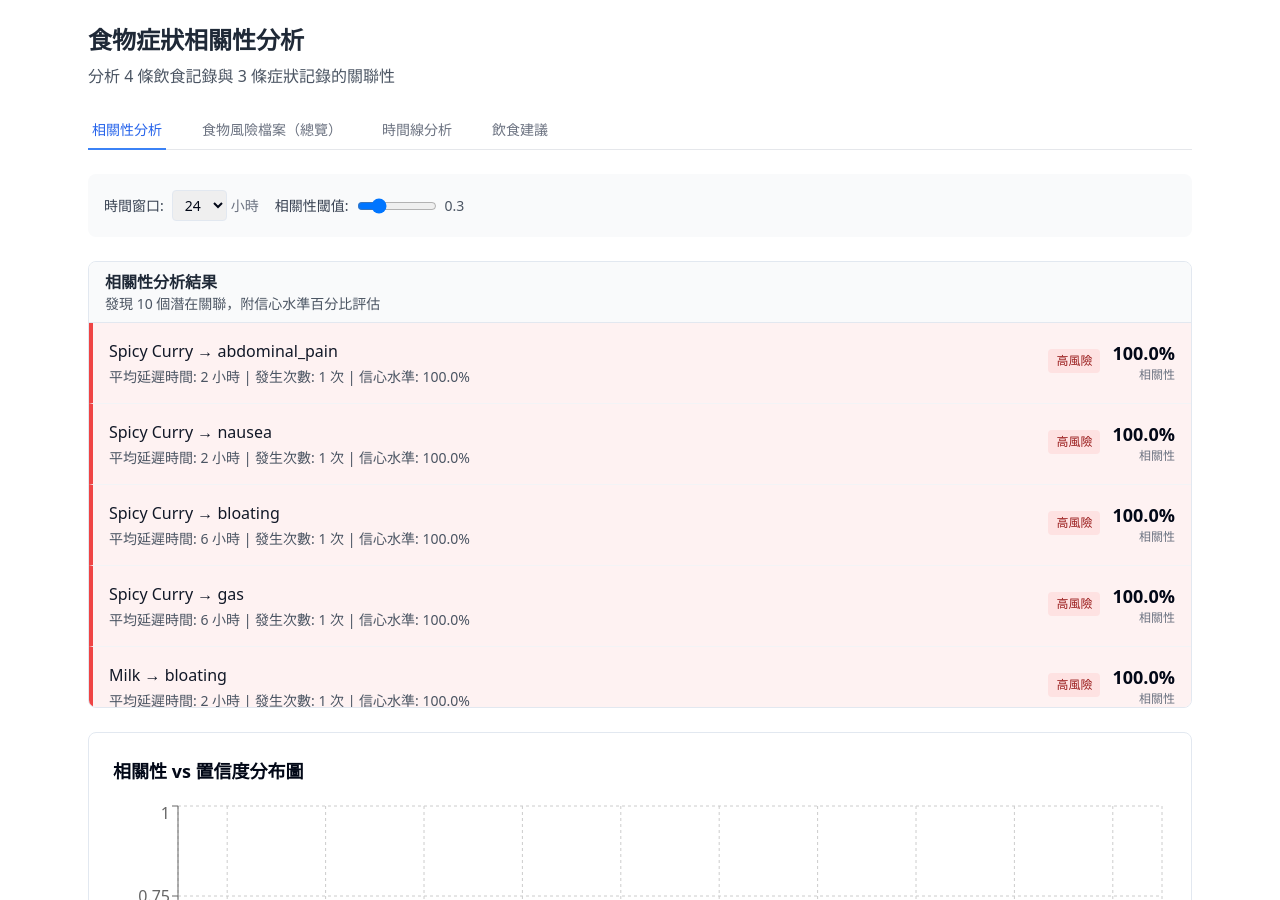
Test: SymptomFoodCorrelationAnalyzer › Tab Navigation › switches to recommendations tab
Click the tab "飲食建議": coordinates (520, 131) top-left (488, 112), bottom-right (552, 150)
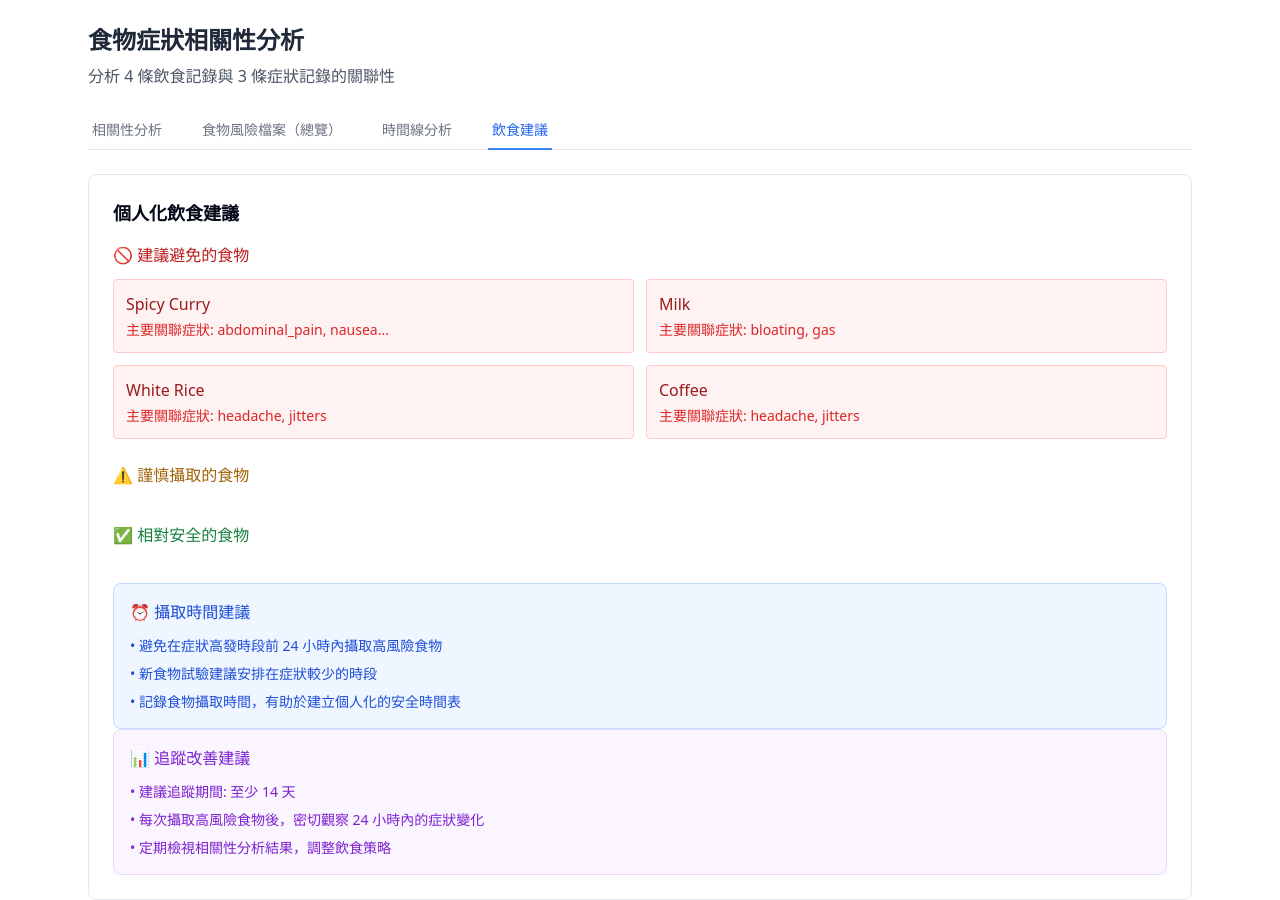
Result: the heading "個人化飲食建議" is shown at top-left (113, 201), bottom-right (239, 225)
Result: the heading "🚫 建議避免的食物" is shown at top-left (113, 244), bottom-right (249, 266)
Result: the heading "⚠️ 謹慎攝取的食物" is shown at top-left (113, 464), bottom-right (249, 486)
